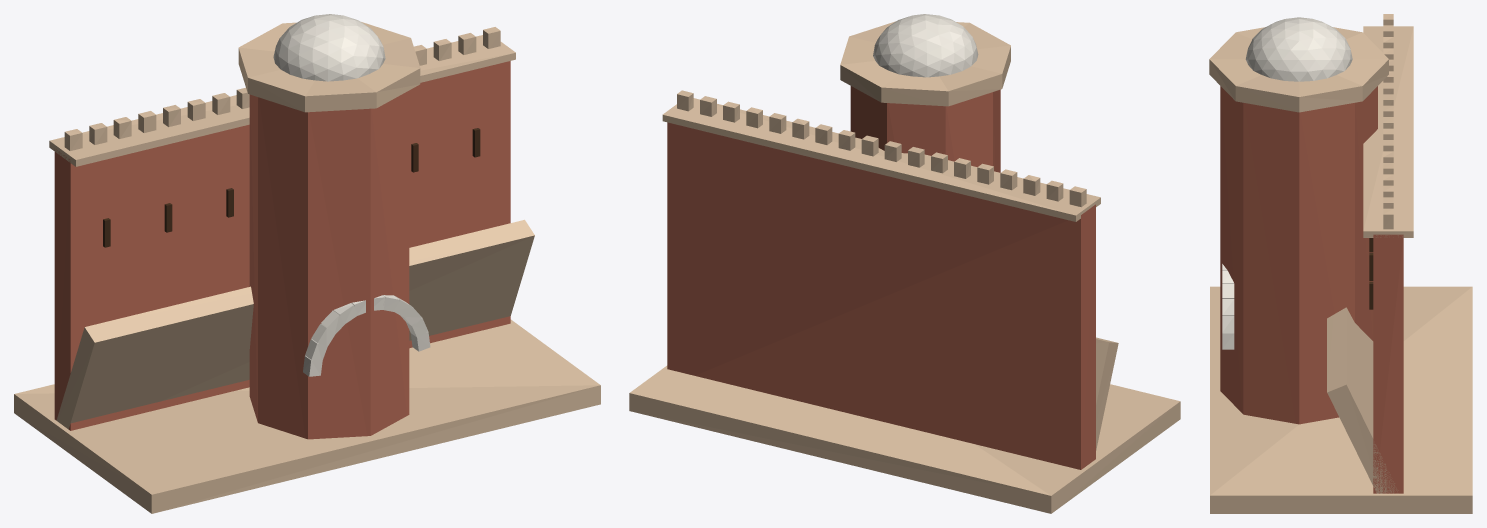
The model's file is rajput_fort_bastion.glb.
3 views of the same model, side by side, from view 1: azimuth 30°, elevation 25°; view 2: azimuth 150°, elevation 25°; view 3: azimuth 270°, elevation 25° (orthographic). The views are drawn at different scales.
Parts seen in each view (by area): view 1: CurtainWall, Bastion_primary, Plinth, Batter, Bastion_secondary, WallWalk, BastionCap, Crenellation, Gate, ArrowSlits; view 2: CurtainWall, Plinth, WallWalk, Bastion_primary, Bastion_secondary, Crenellation, BastionCap, Batter; view 3: Bastion_primary, Plinth, CurtainWall, Bastion_secondary, WallWalk, Batter, BastionCap, Crenellation, Gate, ArrowSlits.
Part boxes in pixels (x1,y1,x2,y2): CurtainWall: (54,61,510,430); Bastion_primary: (249,91,409,439); Plinth: (14,319,600,513); Batter: (56,219,534,429); Bastion_secondary: (238,22,420,112); WallWalk: (49,35,515,166); BastionCap: (273,14,385,81); Crenellation: (64,27,500,150); Gate: (303,295,430,376); ArrowSlits: (103,128,480,247); CurtainWall: (667,122,1095,469); Plinth: (629,365,1180,513); WallWalk: (662,98,1100,221); Bastion_primary: (850,86,1000,172); Bastion_secondary: (840,21,1010,106); Crenellation: (677,90,1086,207); BastionCap: (873,14,978,77); Batter: (1096,337,1118,450); Bastion_primary: (1220,86,1377,424); Plinth: (1210,286,1472,513); CurtainWall: (1373,234,1403,493); Bastion_secondary: (1209,27,1388,112); WallWalk: (1363,26,1413,237); Batter: (1327,307,1398,493); BastionCap: (1245,17,1352,81); Crenellation: (1383,14,1393,229); Gate: (1222,264,1234,349); ArrowSlits: (1369,238,1373,309).
Size of the model in its own units: 12.24 by 10.53 by 6.51.
